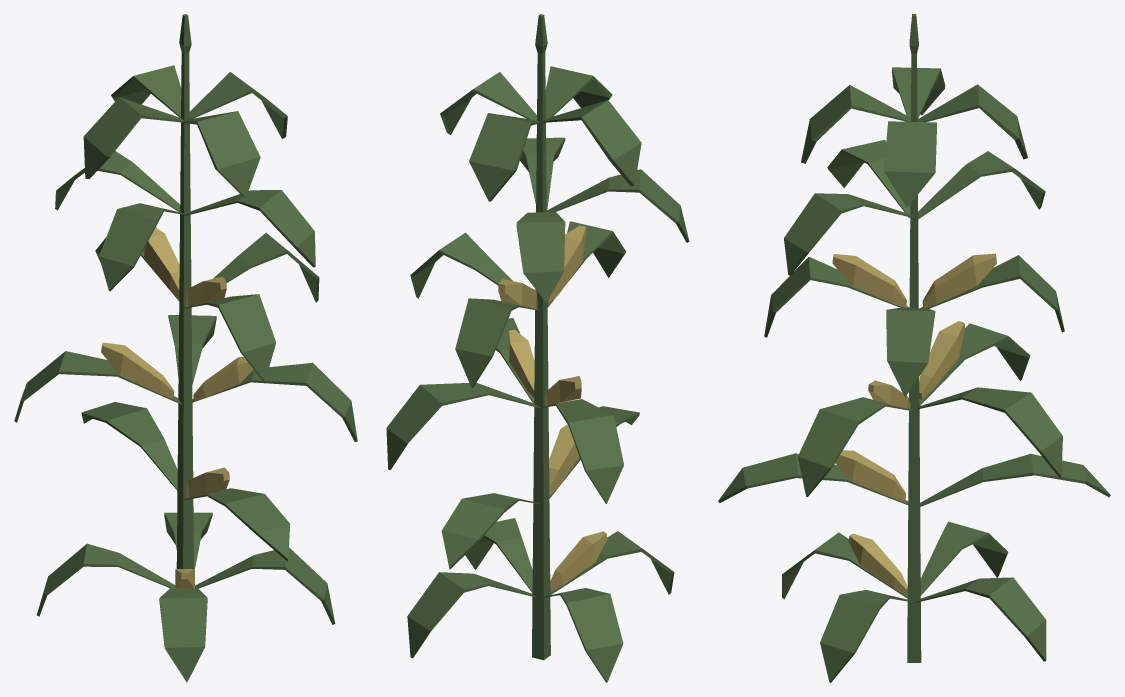
The model's file is Corn_2.glb.
3 views of the same model, side by side, from view 1: azimuth 30°, elevation 25°; view 2: azimuth 150°, elevation 25°; view 3: azimuth 270°, elevation 25° (orthographic).
Parts seen in each view (by area): view 1: Corn_2; view 2: Corn_2; view 3: Corn_2.
Boxes of the visible parts, left/top/right/bottom form: Corn_2: left=14, top=14, right=357, bottom=682; Corn_2: left=386, top=14, right=689, bottom=682; Corn_2: left=718, top=14, right=1110, bottom=682.
Bounding box in the file's own units: 0.8237 × 1.98 × 1.09.
